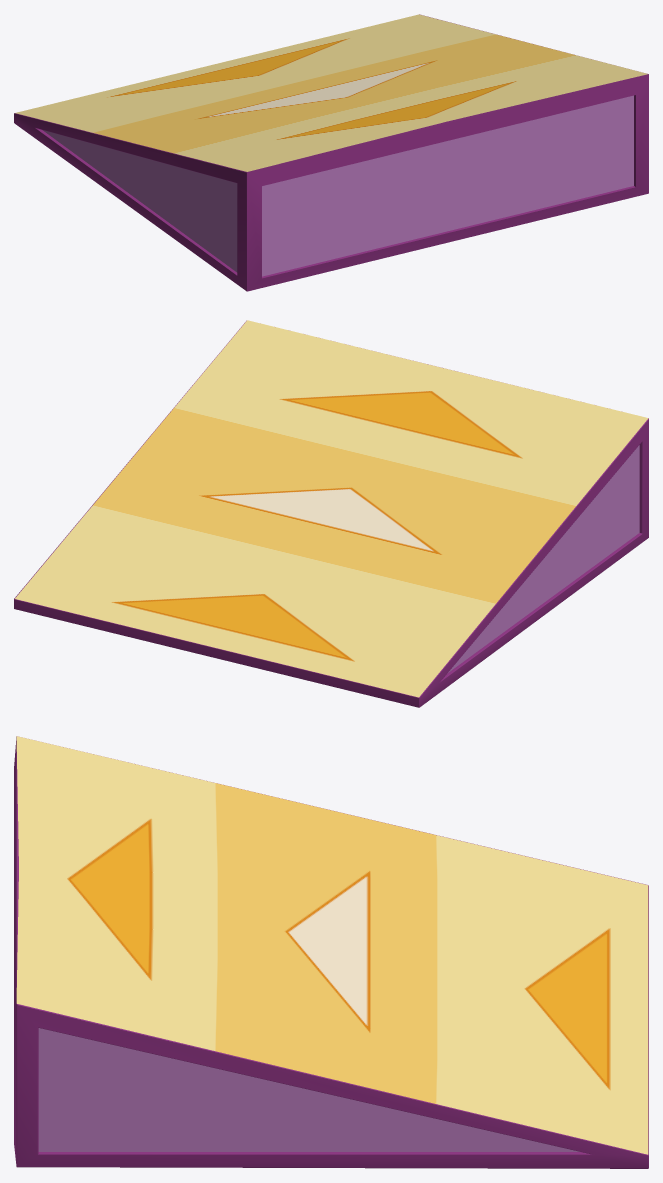
Rendered from PLF0110032.fbx.
3 renders of one model, top to bottom at view 1: azimuth 30°, elevation 25°; view 2: azimuth 150°, elevation 25°; view 3: azimuth 270°, elevation 25°, orthographic. The views are drawn at different scales.
Parts seen in each view (by area): view 1: smPLF0110032; view 2: smPLF0110032; view 3: smPLF0110032.
Boxes of the visible parts, x1,y1,x2,y2 form: smPLF0110032: (14, 14, 648, 291); smPLF0110032: (14, 320, 648, 707); smPLF0110032: (14, 736, 648, 1168).
Size of the model in its own units: 614 by 175 by 609.
Materials: 2 (2 with a texture image).
